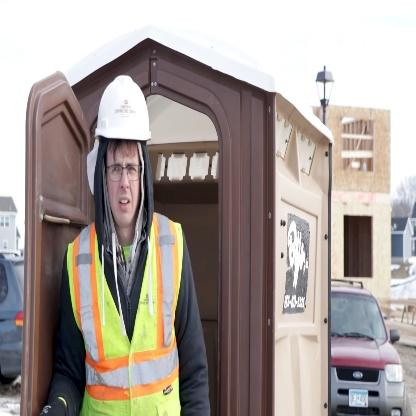helmet: (87, 64, 153, 223)
